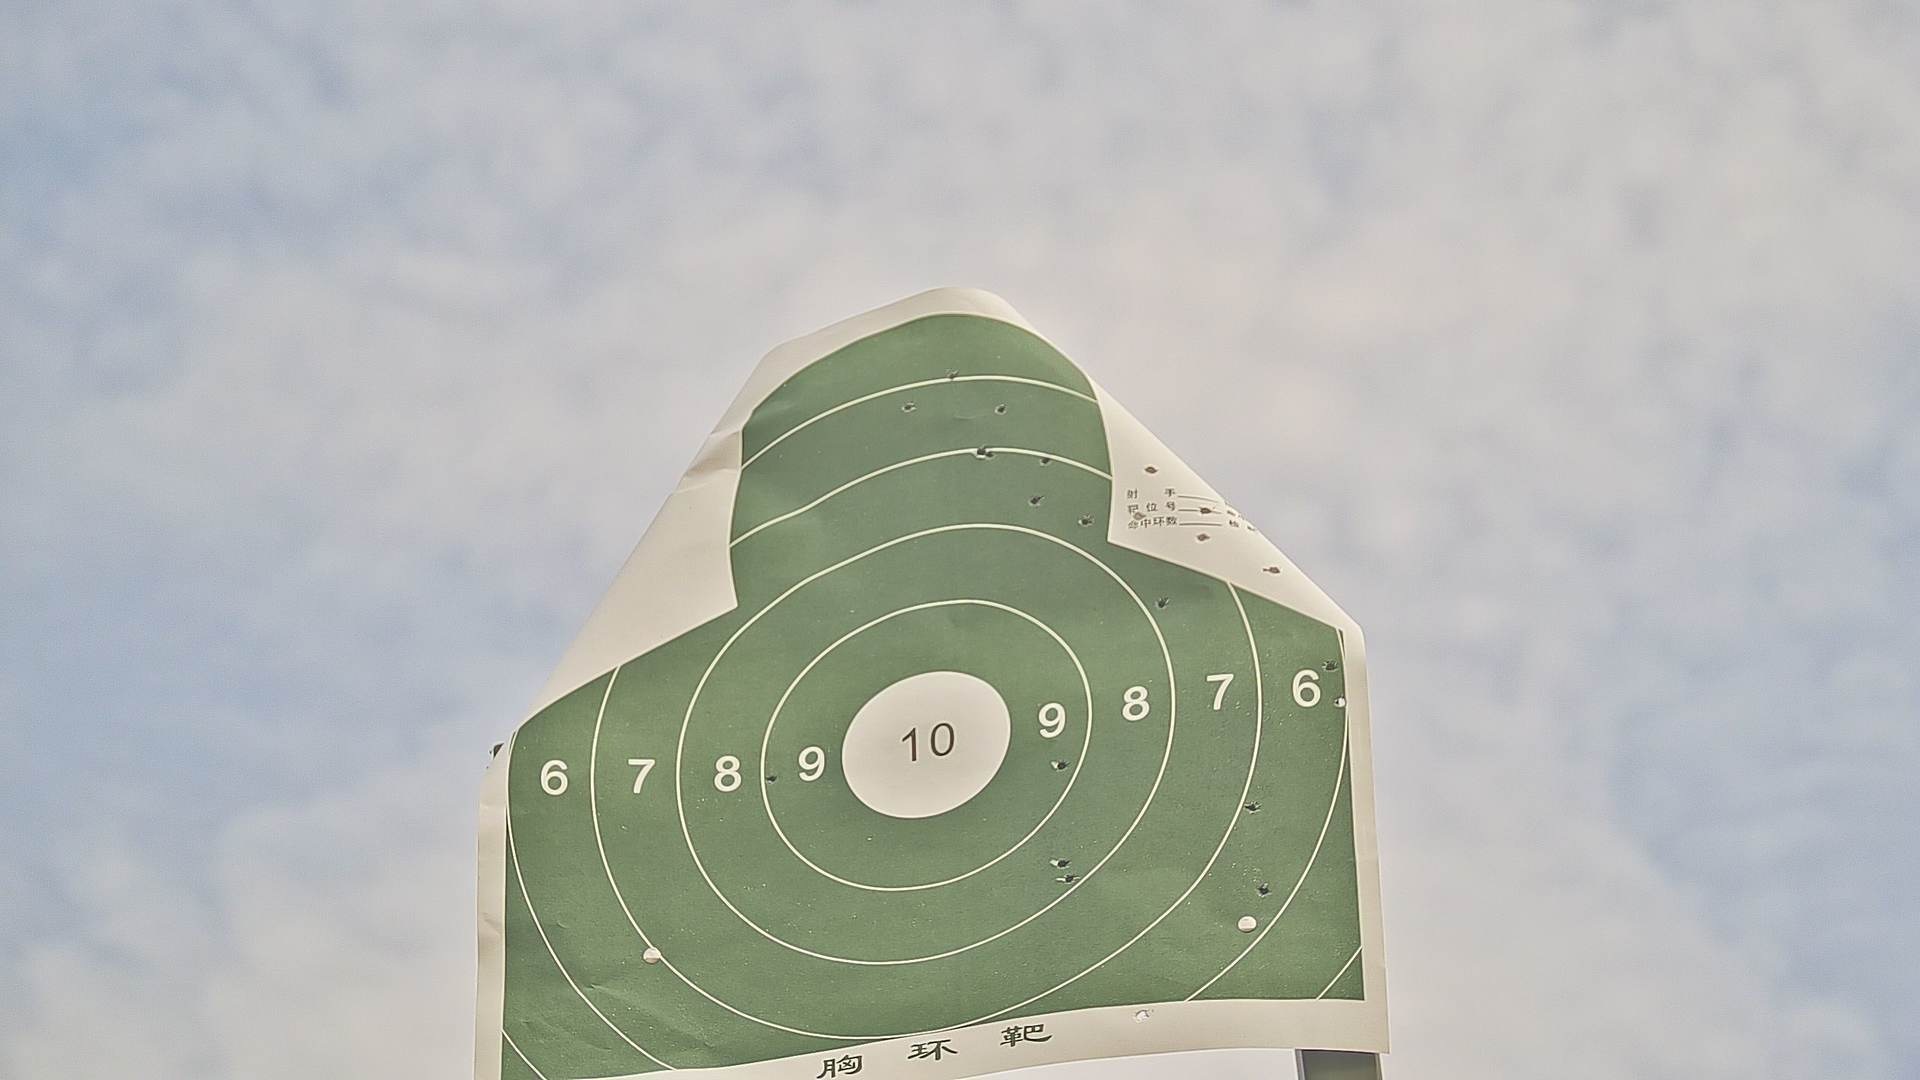hole: (994, 402, 1009, 415), (1135, 1006, 1147, 1021), (1263, 564, 1279, 575), (1145, 464, 1158, 476), (1246, 802, 1258, 814), (1257, 884, 1269, 895), (1064, 872, 1075, 885), (1131, 512, 1145, 522), (1325, 659, 1336, 671), (1335, 695, 1346, 705), (1058, 758, 1067, 771), (1055, 858, 1069, 866), (767, 773, 778, 783), (1197, 531, 1208, 542), (902, 400, 914, 409), (1031, 495, 1040, 506), (1199, 506, 1211, 516), (1040, 456, 1051, 465), (1081, 516, 1091, 526), (1159, 597, 1168, 608), (986, 450, 996, 459), (949, 371, 957, 380), (977, 447, 985, 455)
kernel: (920, 742, 930, 746)
target: (506, 313, 1367, 1080)
ten: (839, 669, 1011, 820)
